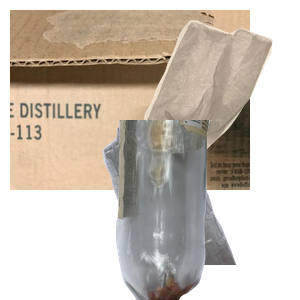cardboard: (10, 10, 250, 190)
glass: (113, 120, 300, 300)
plastic: (55, 120, 284, 300)
trash: (132, 17, 300, 177)
